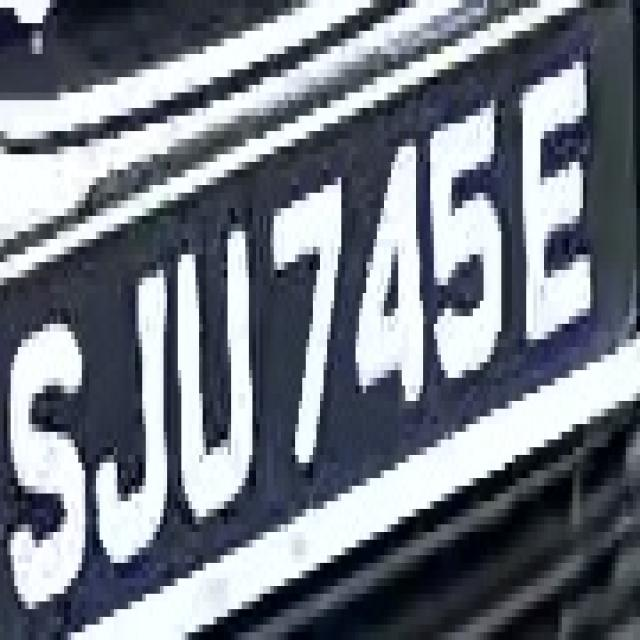4: (345, 139, 441, 432)
5: (419, 100, 505, 393)
7: (263, 170, 356, 486)
E: (512, 62, 612, 354)
J: (92, 262, 178, 563)
S: (10, 301, 100, 617)
U: (171, 224, 263, 524)
